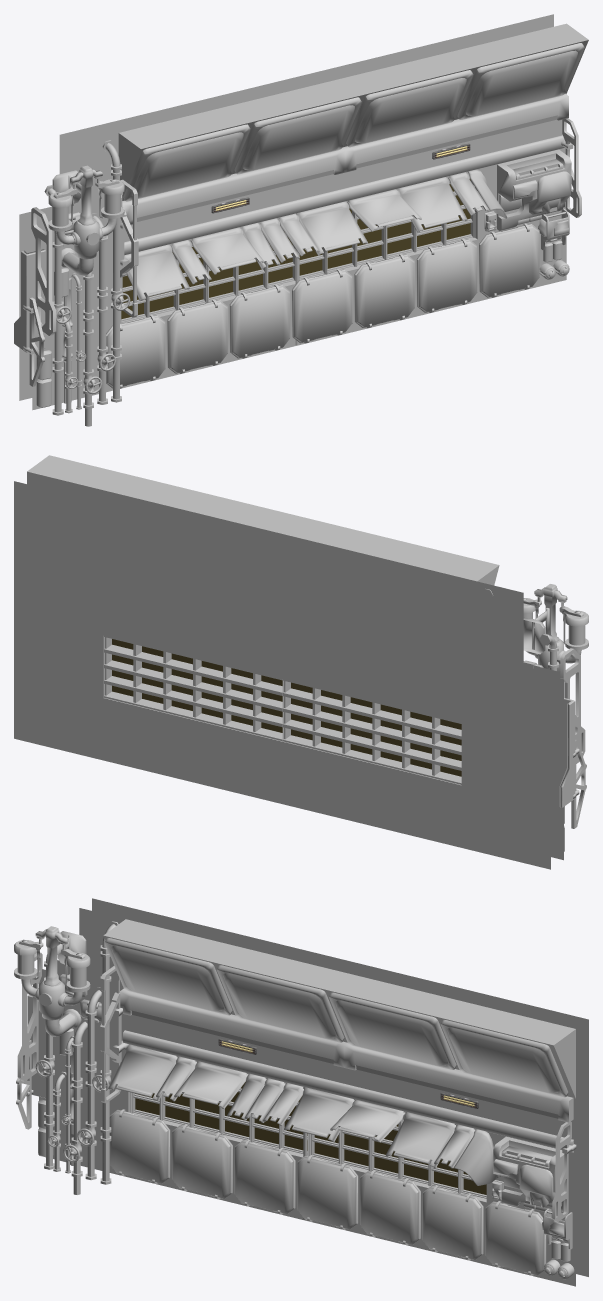
Rendered from Wall_Assembled_03.fbx.
3 renders of one model, top to bottom at view 1: azimuth 30°, elevation 25°; view 2: azimuth 150°, elevation 25°; view 3: azimuth 330°, elevation 25°, orthographic.
Visible parts, largest first — view 1: Wall_08_Window.003, Wall_08_Window.002, Wall_02.019, Wall_02.005, Panel_02.007, Panel_02.009, Panel_02.008, Panel_02.010, Trim_02.008, Trim_02.009, Device_02.001, Wall_02.018 (+33 smaller); view 2: Wall_08_Window.002, Wall_08_Window.003, Wall_02.005, Wall_02.017, Wall_02.015, Wall_02.006, Wall_02.016, Wall_02.019, Wall_02.018, Device_02.001, Panel_54.004, Scaffold_01.003 (+1 smaller); view 3: Wall_08_Window.002, Wall_08_Window.003, Wall_02.019, Wall_02.017, Trim_02.008, Panel_02.008, Panel_02.010, Panel_02.009, Panel_02.007, Trim_02.009, Device_02.001, Wall_02.005 (+35 smaller).
Boxes of the visible parts, bbox=[...] form: Wall_08_Window.003: bbox=[299, 139, 477, 344]; Wall_08_Window.002: bbox=[121, 182, 299, 388]; Wall_02.019: bbox=[297, 23, 588, 147]; Wall_02.005: bbox=[19, 205, 121, 410]; Panel_02.007: bbox=[234, 97, 361, 174]; Panel_02.009: bbox=[457, 43, 584, 119]; Panel_02.008: bbox=[346, 70, 473, 147]; Panel_02.010: bbox=[123, 124, 250, 201]; Trim_02.008: bbox=[342, 93, 568, 172]; Trim_02.009: bbox=[122, 148, 345, 224]; Device_02.001: bbox=[48, 165, 124, 275]; Wall_02.018: bbox=[118, 89, 318, 200]; Wall_08_Window.002: bbox=[282, 617, 461, 847]; Wall_08_Window.003: bbox=[103, 573, 282, 803]; Wall_02.005: bbox=[461, 660, 563, 869]; Wall_02.017: bbox=[14, 551, 103, 760]; Wall_02.015: bbox=[331, 549, 523, 672]; Wall_02.006: bbox=[152, 505, 344, 628]; Wall_02.016: bbox=[14, 471, 165, 584]; Wall_02.019: bbox=[27, 455, 319, 537]; Wall_02.018: bbox=[298, 521, 499, 585]; Device_02.001: bbox=[523, 584, 588, 671]; Panel_54.004: bbox=[559, 698, 575, 807]; Scaffold_01.003: bbox=[560, 648, 585, 763]; Wall_08_Window.002: bbox=[128, 1015, 309, 1220]; Wall_08_Window.003: bbox=[307, 1058, 486, 1264]; Wall_02.019: bbox=[282, 963, 575, 1098]; Wall_02.017: bbox=[486, 1086, 588, 1286]; Trim_02.008: bbox=[344, 1043, 573, 1122]; Panel_02.008: bbox=[329, 992, 456, 1069]; Panel_02.010: bbox=[105, 938, 232, 1015]; Panel_02.009: bbox=[440, 1020, 568, 1097]; Panel_02.007: bbox=[216, 965, 344, 1042]; Trim_02.009: bbox=[120, 988, 347, 1067]; Device_02.001: bbox=[14, 926, 90, 1036]; Wall_02.005: bbox=[39, 960, 128, 1177].
Size of the model in its own units: 12.2 by 5.92 by 1.58.
